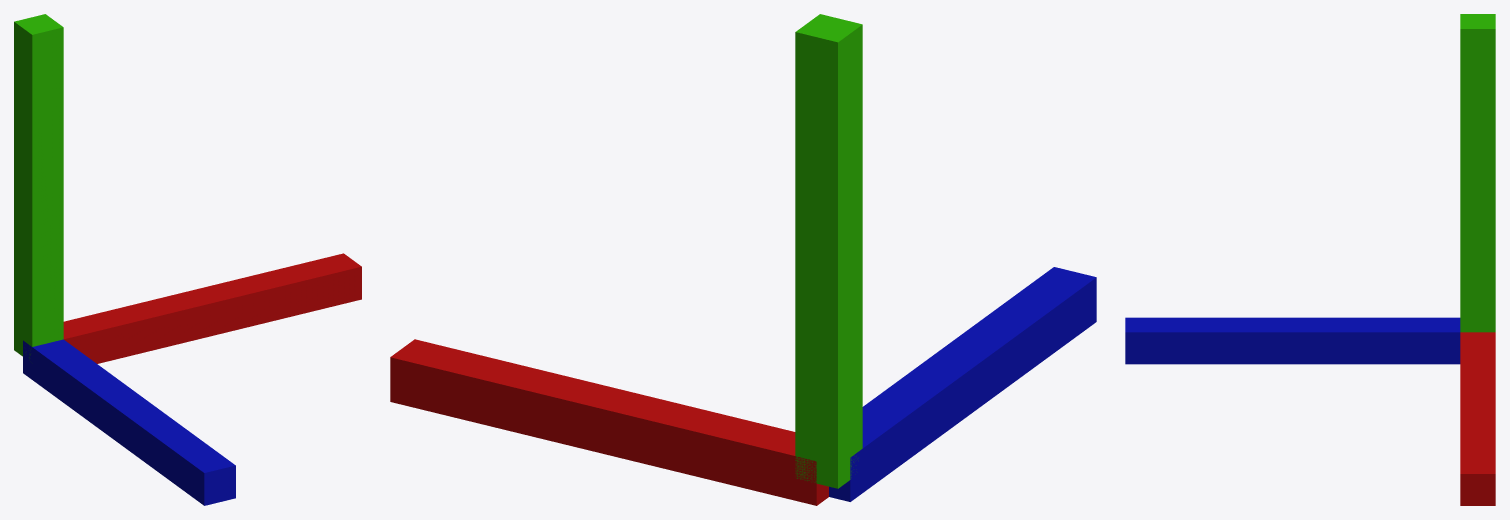
File: anchor.glb
3 renders of one model, left to right at view 1: azimuth 30°, elevation 25°; view 2: azimuth 150°, elevation 25°; view 3: azimuth 270°, elevation 25°, orthographic. The views are drawn at different scales.
Parts seen in each view (by area): view 1: Cube.003, Cube.001, Cube.002; view 2: Cube.003, Cube.001, Cube.002; view 3: Cube.002, Cube.003, Cube.001.
Boxes of the visible parts, bbox=[...] form: Cube.003: bbox=[14, 14, 63, 358]; Cube.001: bbox=[63, 253, 361, 363]; Cube.002: bbox=[23, 339, 235, 505]; Cube.003: bbox=[795, 14, 862, 488]; Cube.001: bbox=[390, 339, 828, 505]; Cube.002: bbox=[829, 267, 1096, 501]; Cube.002: bbox=[1125, 317, 1460, 364]; Cube.003: bbox=[1460, 14, 1495, 332]; Cube.001: bbox=[1460, 332, 1495, 505].
Size of the model in its own units: 0.42 by 0.42 by 0.42.
